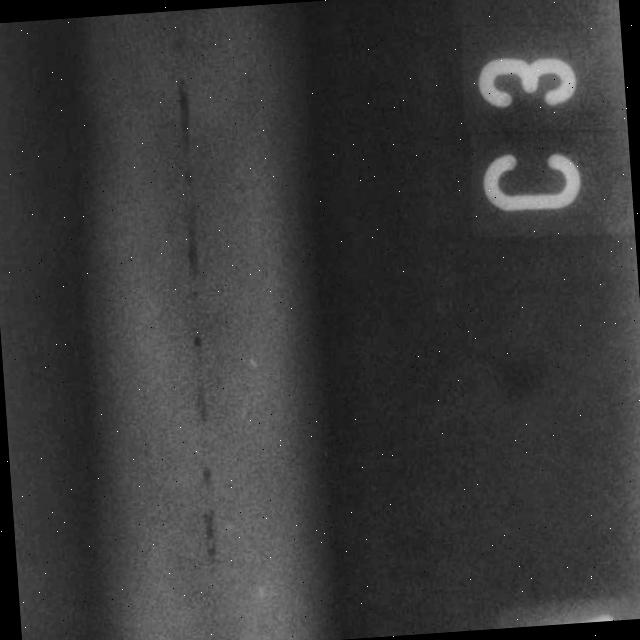LoP-LoF: (142, 12, 260, 640)
